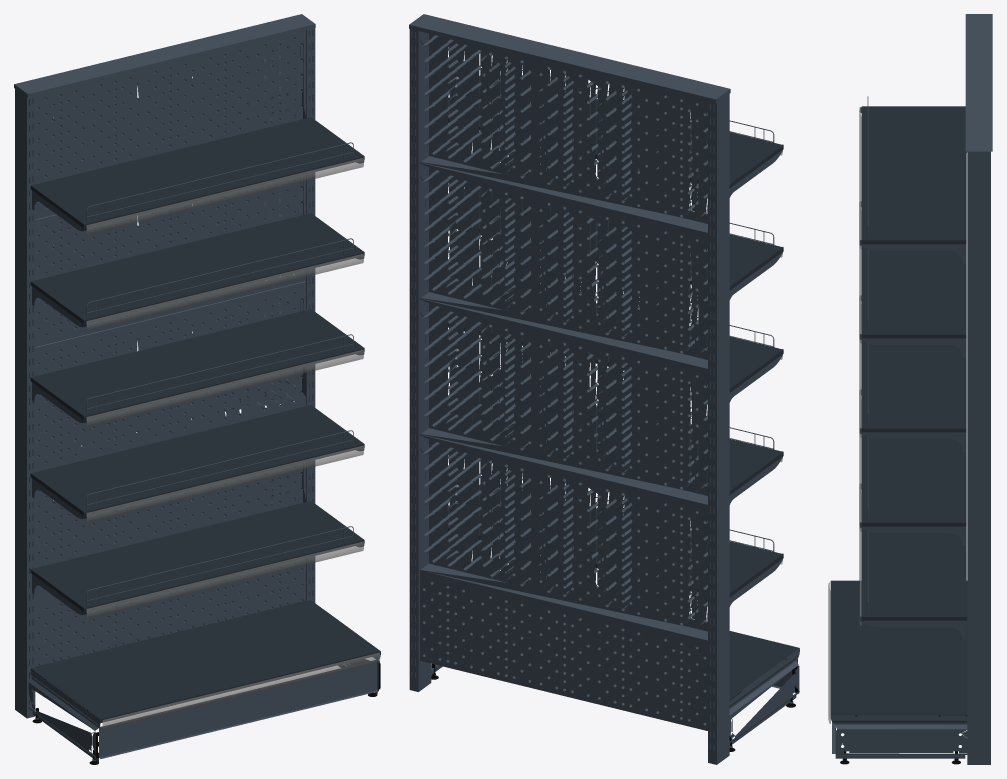
File: WALL-SHELVE-77-39.glb
The picture shows the model from 3 angles, left to right: view 1: azimuth 30°, elevation 25°; view 2: azimuth 150°, elevation 25°; view 3: azimuth 270°, elevation 25°; orthographic projection. The views are drawn at different scales.
Size of the model in its own units: 0.9908 by 2.05 by 0.4982.
